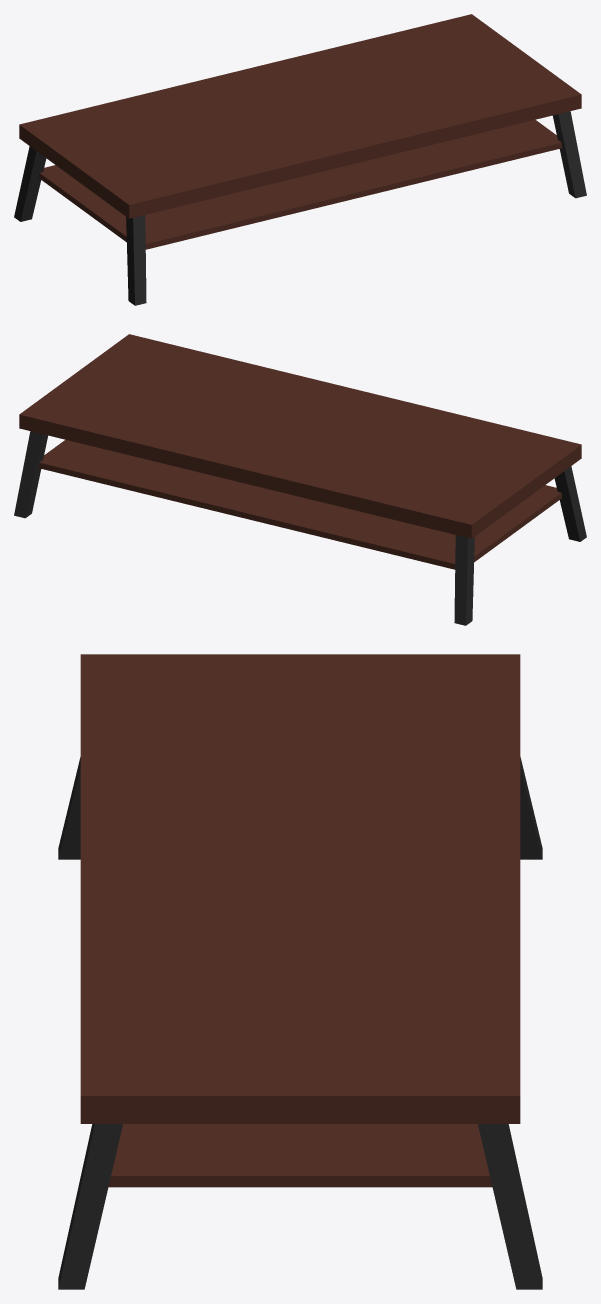
Rendered from table maskwatch.fbx.
The picture shows the model from 3 angles, top to bottom: view 1: azimuth 30°, elevation 25°; view 2: azimuth 150°, elevation 25°; view 3: azimuth 270°, elevation 25°; orthographic projection. The views are drawn at different scales.
Visible parts, largest first — view 1: table; view 2: table; view 3: table.
Boxes of the visible parts, <box> form: table: <box>14,14,586,305</box>; table: <box>14,334,586,625</box>; table: <box>58,654,542,1289</box>.
Bounding box in the file's own units: 1.96 × 0.4 × 0.9061.
